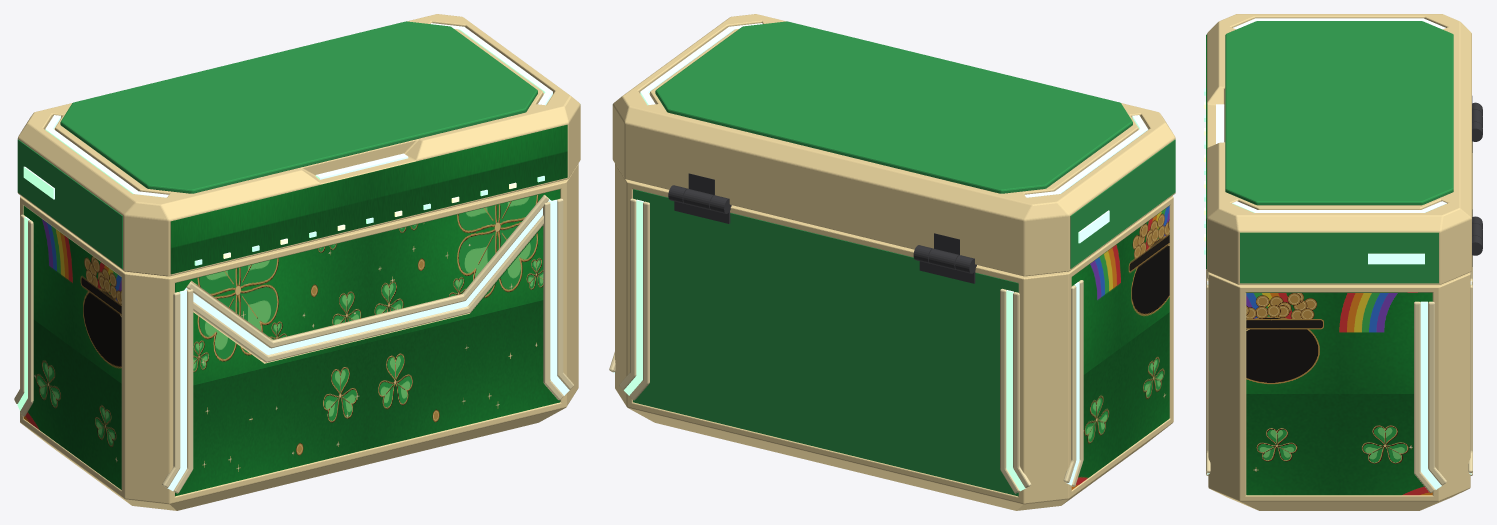
The model's file is patrick.glb.
The picture shows the model from 3 angles, left to right: view 1: azimuth 30°, elevation 25°; view 2: azimuth 150°, elevation 25°; view 3: azimuth 270°, elevation 25°; orthographic projection. The views are drawn at different scales.
Visible parts, largest first — view 1: PlateFB, LidTopPanel, BodyCore, LidBand, LidFrontPlate, PlateSide, LidSidePlate, Rail_5, Rail_4, LedPath_3, Rail_16, LedPath_15 (+9 smaller); view 2: PlateFB.001, LidTopPanel, LidBand, BodyCore, PlateSide, LidSidePlate, Rail_10, Rail_20, LedPath_9, LedPath_18, Rail_11, Rail_19 (+5 smaller); view 3: LidTopPanel, PlateSide.001, BodyCore, LidBand, LidSidePlate.001, LedPath_21, Rail_22, Rail_23, LedPath_27, LedPath_30, LedPath_26, Rail_17 (+2 smaller).
Part boxes in pixels (x1,y1,x2,y2): PlateFB: (175, 189, 560, 496); LidTopPanel: (60, 21, 537, 193); BodyCore: (20, 163, 578, 510); LidBand: (17, 14, 580, 276); LidFrontPlate: (170, 125, 567, 274); PlateSide: (23, 206, 121, 489); LidSidePlate: (17, 139, 122, 268); Rail_5: (186, 195, 548, 348); Rail_4: (193, 215, 543, 362); LedPath_3: (184, 199, 550, 354); Rail_16: (543, 201, 563, 400); LedPath_15: (549, 199, 569, 395); PlateFB.001: (633, 189, 1018, 496); LidTopPanel: (655, 21, 1132, 193); LidBand: (612, 14, 1175, 276); BodyCore: (615, 164, 1173, 510); PlateSide: (1071, 205, 1169, 489); LidSidePlate: (1070, 139, 1175, 268); Rail_10: (1000, 288, 1019, 493); Rail_20: (629, 201, 649, 400); LedPath_9: (1006, 290, 1025, 491); LedPath_18: (624, 199, 643, 395); Rail_11: (1013, 292, 1031, 487); Rail_19: (619, 198, 636, 389); LidTopPanel: (1225, 21, 1453, 205); PlateSide.001: (1246, 292, 1432, 495); BodyCore: (1208, 272, 1470, 510); LidBand: (1207, 14, 1471, 284); LidSidePlate.001: (1240, 232, 1438, 283); LedPath_21: (1420, 301, 1441, 489); Rail_22: (1414, 301, 1435, 493); Rail_23: (1428, 301, 1446, 485); LedPath_27: (1232, 201, 1446, 212); LedPath_30: (1368, 253, 1424, 264); LedPath_26: (1233, 18, 1445, 29); Rail_17: (1206, 284, 1210, 473).
Bounding box in the file's own units: 1.78 × 1.17 × 0.978.
Materials: 12 (3 with a texture image).
